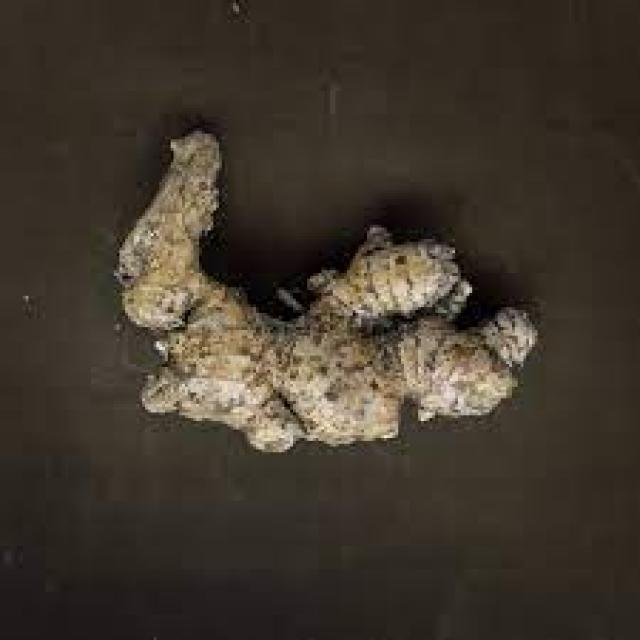ginger: (117, 133, 546, 460)
